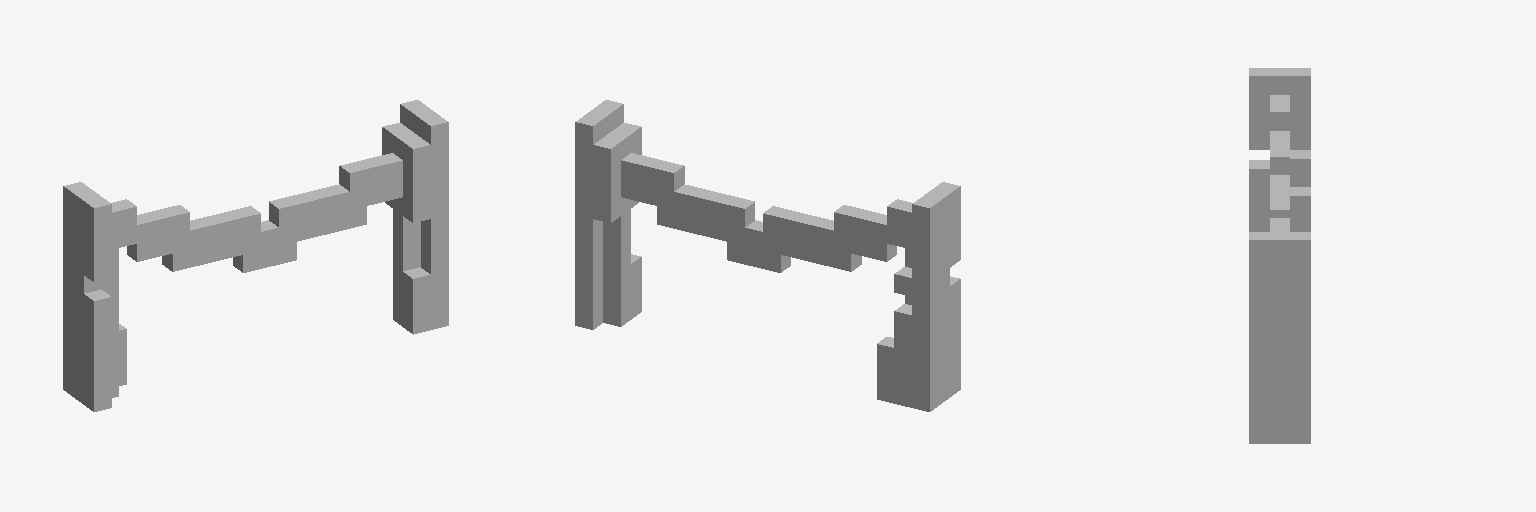
Rendered from Fence.obj.
3 renders of one model, left to right at view 1: azimuth 30°, elevation 25°; view 2: azimuth 150°, elevation 25°; view 3: azimuth 270°, elevation 25°, orthographic.
Visible parts, largest first — view 1: object 1; view 2: object 1; view 3: object 1.
Part boxes in pixels (left/top/right/bottom): object 1: left=63, top=100, right=448, bottom=411; object 1: left=575, top=100, right=960, bottom=411; object 1: left=1249, top=68, right=1310, bottom=443.
Bounding box in the file's own units: 2 × 1.1 × 0.3.